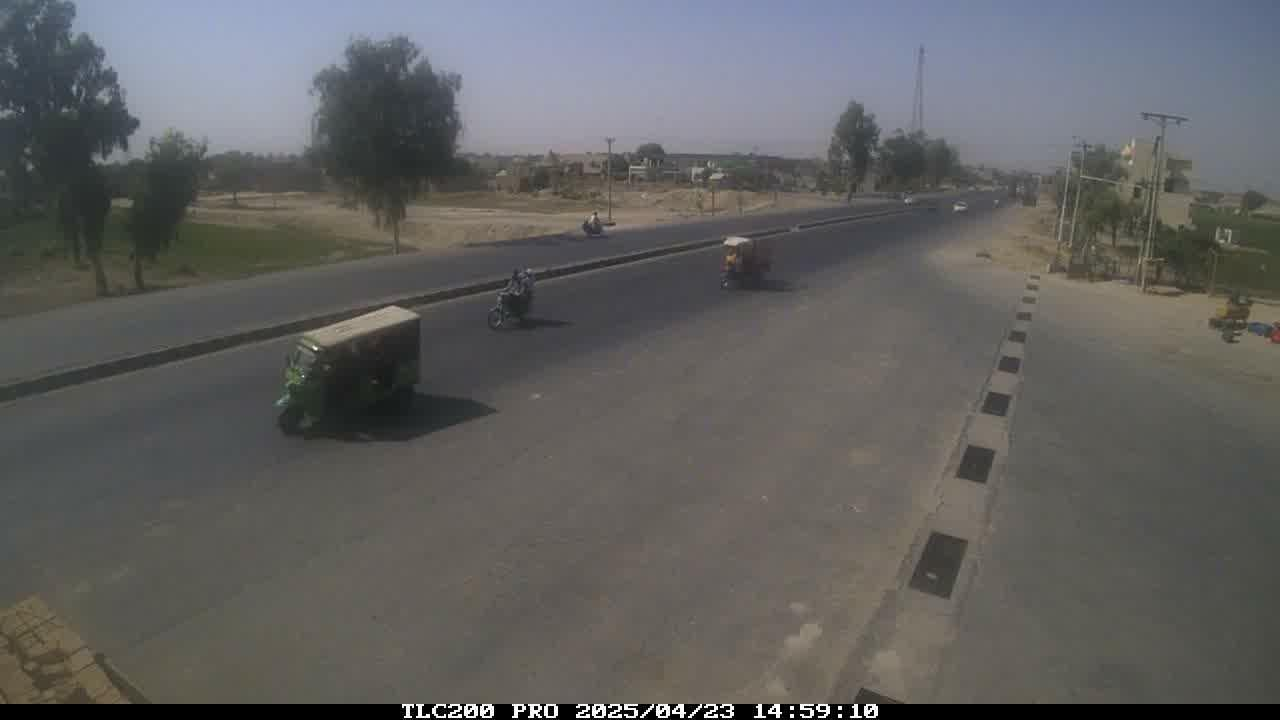motorcycle: (486, 267, 559, 332)
qingqi_rickshaw: (264, 300, 443, 446)
